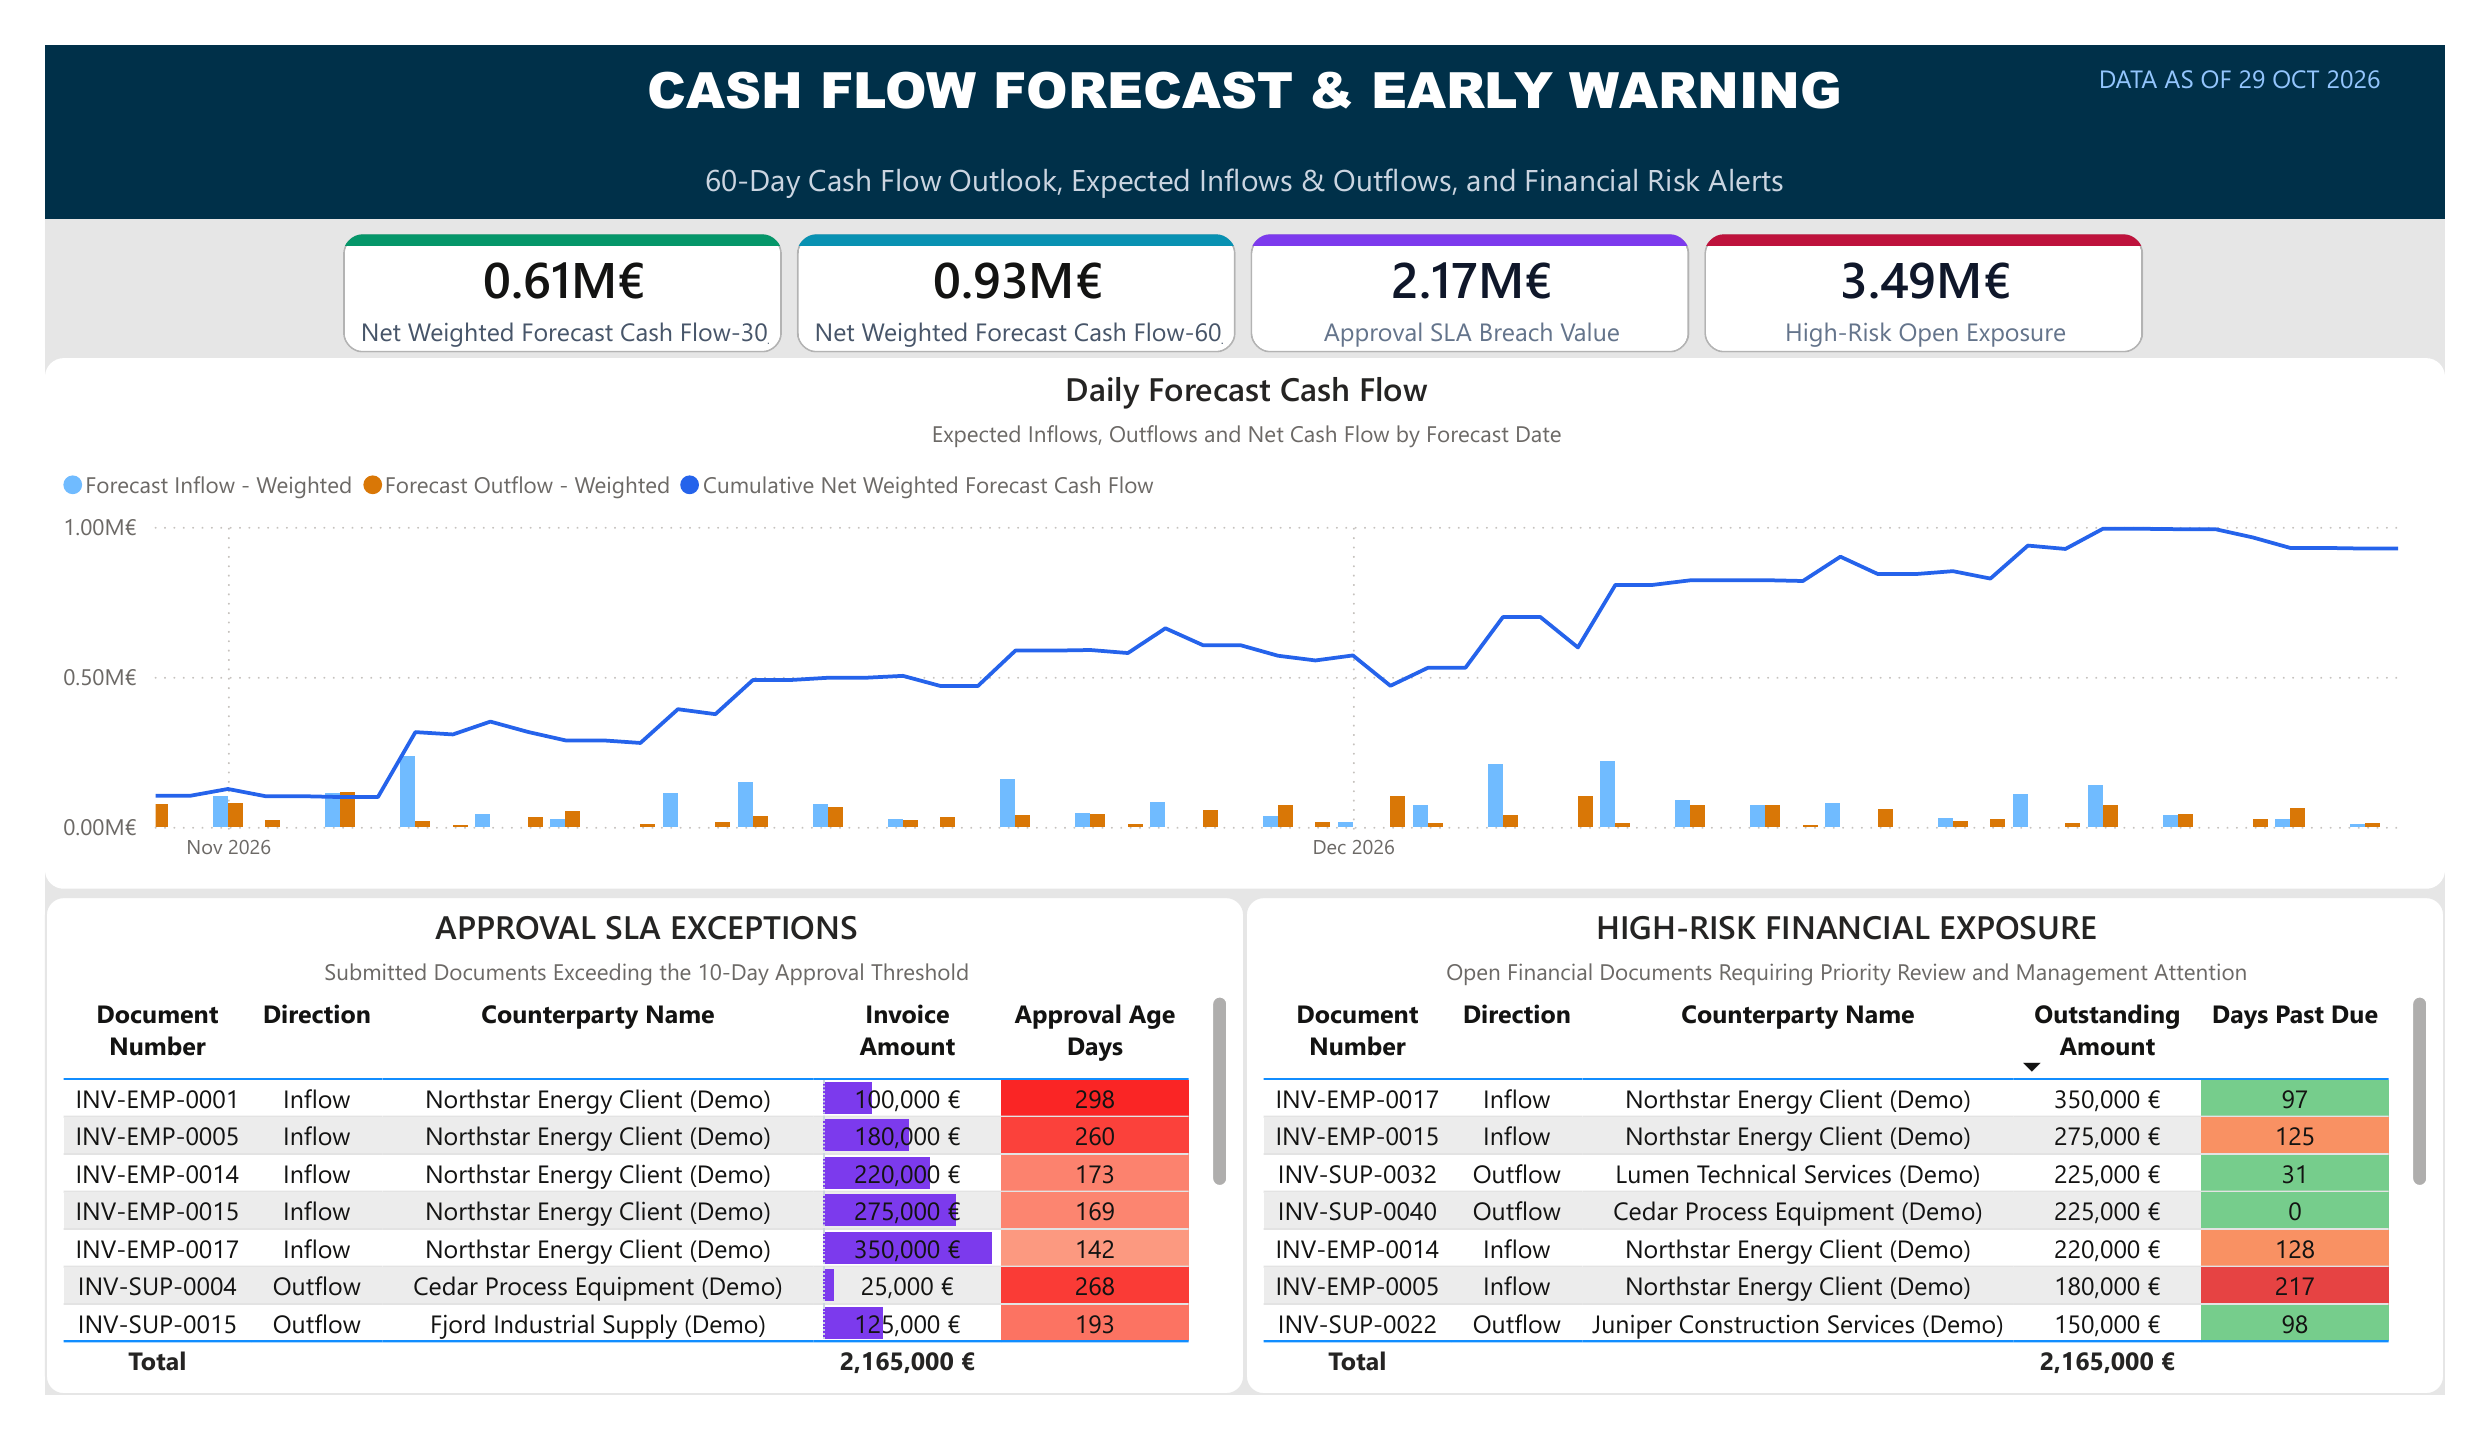

What the dashboard file says about the page in this screenshot:
{"tool":"powerbi","page":{"name":"Cash Flow Forecast & Early Warning","canvas":[1280,720],"ordinal":4},"visuals":[{"type":"group","id":"g1","title":"Group 1","box":[0,0,1280.2,93.2],"z":0,"group":"g2"},{"type":"cardVisual","fields":{"Data":["_Measures.Net Weighted Forecast Cash Flow - 30D","_Measures.Net Weighted Forecast Cash Flow - 60D","_Measures.Approval SLA Breach Value","_Measures.High-Risk Open Exposure"]},"box":[154.3,95.7,970,72.9],"z":0},{"type":"textbox","box":[1060.7,4,219.3,46.5],"z":1000,"group":"g2"},{"type":"lineClusteredColumnComboChart","title":"Daily Forecast Cash Flow","fields":{"Y":["_Measures.Forecast Inflow - Weighted","_Measures.Forecast Outflow - Weighted"],"Y2":["_Measures.Cumulative Net Weighted Forecast Cash Flow"],"Category":["Dim_ForecastDate.Date Hierarchy.Date"]},"box":[0,167.1,1280,283],"z":1000},{"type":"tableEx","title":"APPROVAL SLA EXCEPTIONS","fields":{"Values":["Fact_Documents.DocumentNumber","Fact_Documents.Direction","Dim_Counterparty.CounterpartyName","Sum(Fact_Documents.InvoiceAmountEUR)","Fact_Documents.ApprovalAgeDaysAsOf"]},"box":[0,454.3,640,265.7],"z":2000},{"type":"tableEx","title":"HIGH-RISK FINANCIAL EXPOSURE","fields":{"Values":["Fact_Documents.DocumentNumber","Fact_Documents.Direction","Dim_Counterparty.CounterpartyName","Sum(Fact_Documents.OutstandingAmountAsOfEUR)","Fact_Documents.DaysPastDueAsOf"]},"box":[640,454.3,640,265.7],"z":3000},{"type":"textbox","box":[0,0,1280.2,56.2],"z":4000,"group":"g1"},{"type":"textbox","box":[0,56.2,1280.2,37],"z":5000,"group":"g1"},{"type":"group","id":"g2","title":"Group 2","box":[0,0,1280.2,93.2],"z":6000}]}

Visuals, with their boxes in screenshot pixels (x1, y1, x2, y2), scaled from the page's 1280x720 canvas onto the 2490x1440 screenshot:
"Group 1" group: 0:0:2489:186
cardVisual - _Measures.Net Weighted Forecast Cash Flow - 30D x _Measures.Net Weighted Forecast Cash Flow - 60D: 300:191:2187:337
textbox: 2063:8:2489:101
"Daily Forecast Cash Flow" lineClusteredColumnComboChart: 0:334:2489:900
"APPROVAL SLA EXCEPTIONS" tableEx: 0:909:1245:1439
"HIGH-RISK FINANCIAL EXPOSURE" tableEx: 1245:909:2489:1439
textbox: 0:0:2489:112
textbox: 0:112:2489:186
"Group 2" group: 0:0:2489:186
